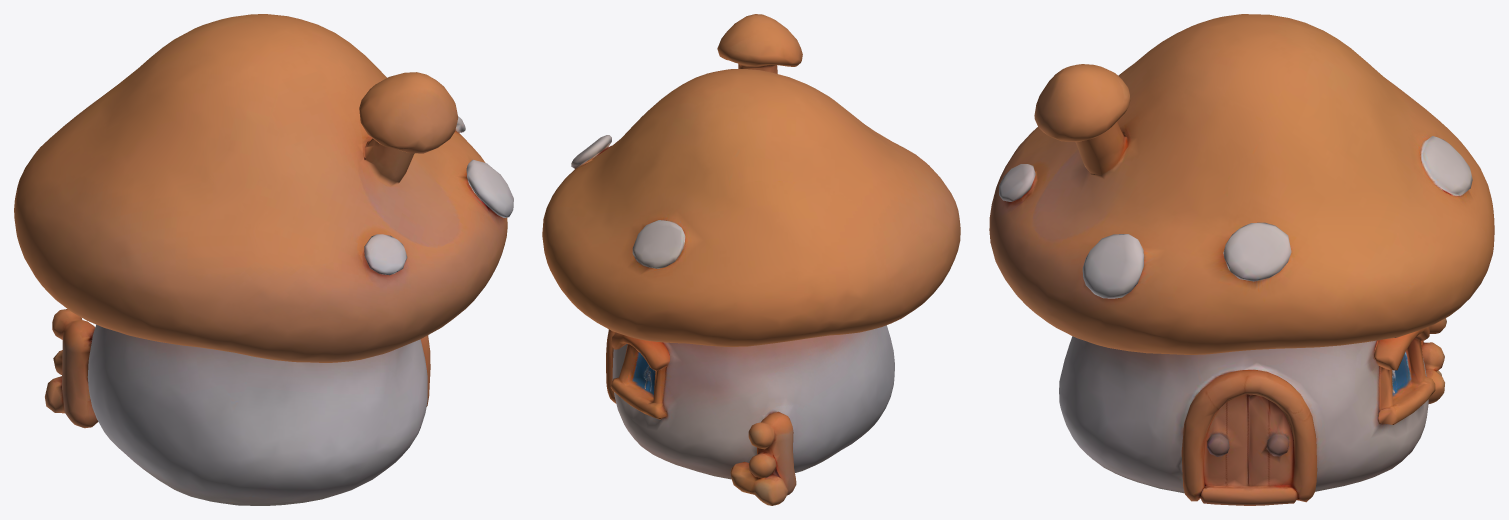
Rendered from house.glb.
3 renders of one model, left to right at view 1: azimuth 30°, elevation 25°; view 2: azimuth 150°, elevation 25°; view 3: azimuth 270°, elevation 25°, orthographic. The views are drawn at different scales.
Parts seen in each view (by area): view 1: tripo_node_3b04250a-0eb9-4fca-ba15-cc181f9f869c; view 2: tripo_node_3b04250a-0eb9-4fca-ba15-cc181f9f869c; view 3: tripo_node_3b04250a-0eb9-4fca-ba15-cc181f9f869c.
Boxes of the visible parts, box(x1,y1,x2,y2) form: tripo_node_3b04250a-0eb9-4fca-ba15-cc181f9f869c: box(14, 14, 513, 505); tripo_node_3b04250a-0eb9-4fca-ba15-cc181f9f869c: box(542, 14, 960, 505); tripo_node_3b04250a-0eb9-4fca-ba15-cc181f9f869c: box(989, 14, 1494, 505).
Size of the model in its own units: 0.3102 by 0.3 by 0.3138.
Materials: 1 (1 with a texture image).
